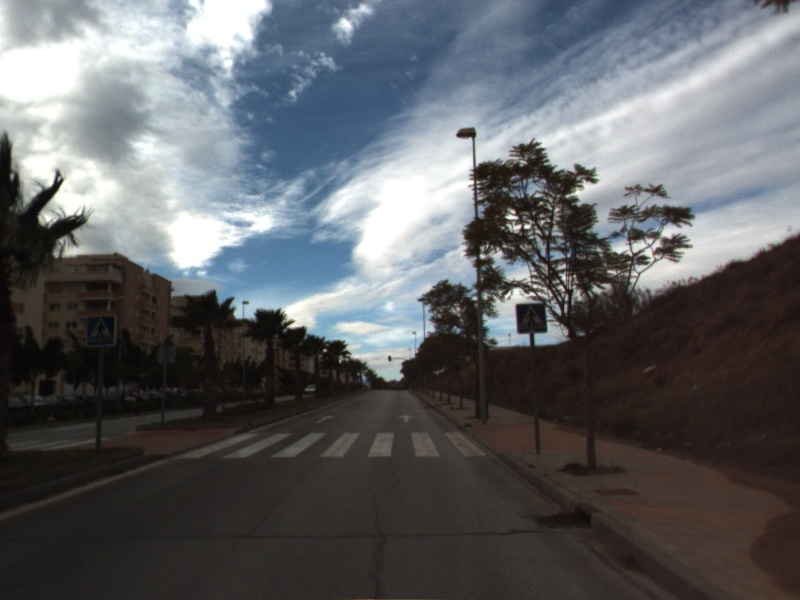STRAIGHT: (314, 412, 337, 425), (397, 412, 417, 425)
